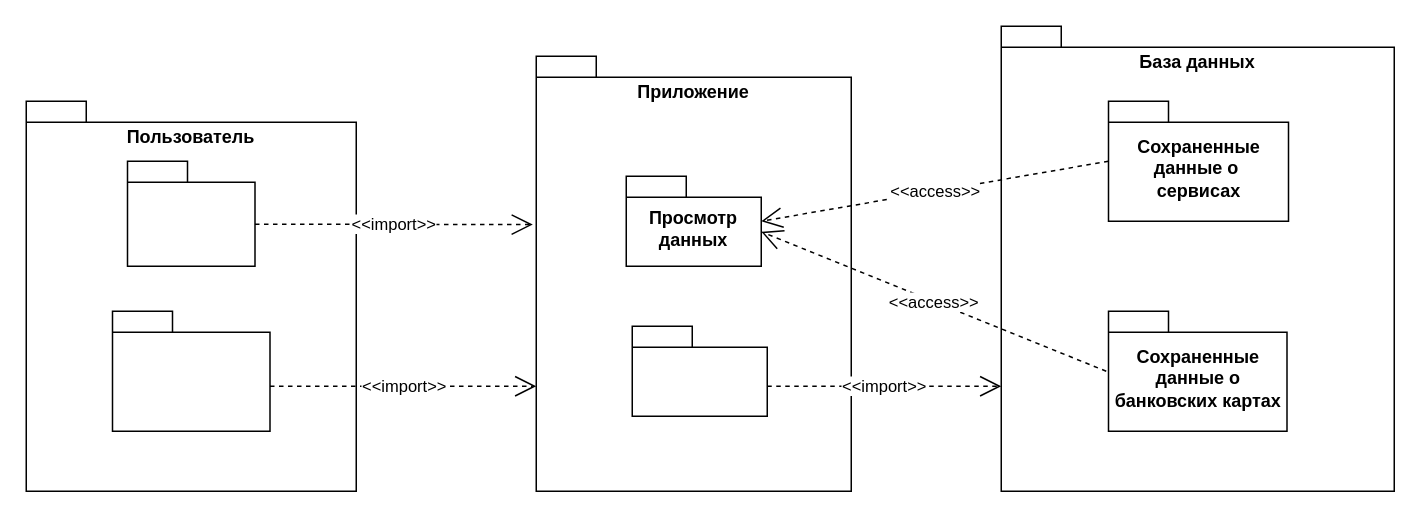
Some shapes in this 1421 by 518 pixel diagram are drawn without their labels. The centre of each missing label's shape, as x and y in pixels:
"Данные о банковской карте" goes at pixel 190 370.
"Данные о сервисе" goes at pixel 190 213.
"Добавление данных" goes at pixel 699 370.
